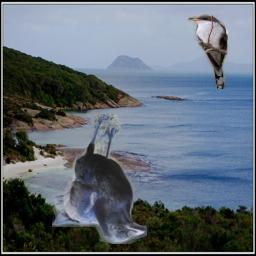Crow: (52, 114, 147, 244)
Cuckoo: (188, 14, 229, 89)
